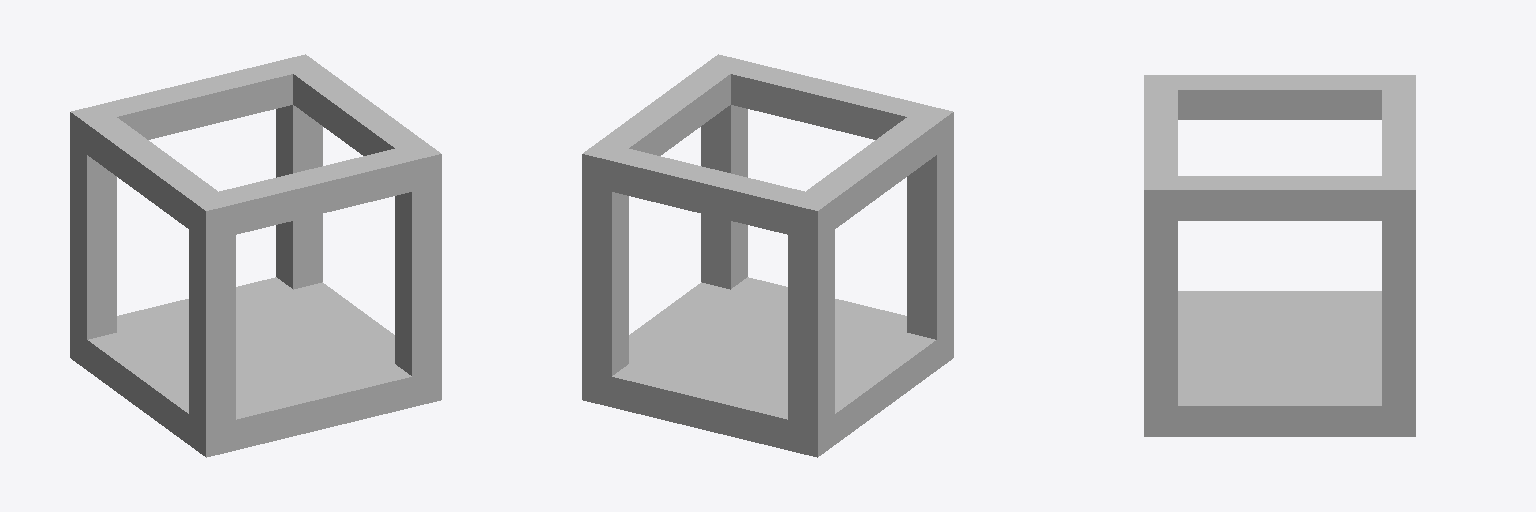
The model's file is blockExtender2.obj.
3 renders of one model, left to right at view 1: azimuth 30°, elevation 25°; view 2: azimuth 150°, elevation 25°; view 3: azimuth 270°, elevation 25°, orthographic.
Parts seen in each view (by area): view 1: Cube.001, Cube_4, Cube_3, Cube_2, Cube_5, Cube_6, Cube_1, Cube_8, Cube_7; view 2: Cube.001, Cube_2, Cube_1, Cube_4, Cube_6, Cube_5, Cube_3, Cube_8, Cube_7; view 3: Cube.001, Cube_7, Cube_8, Cube_3, Cube_1, Cube_6, Cube_5.
Part boxes in pixels (bbox=[...]): Cube.001: bbox=[70, 277, 441, 457]; Cube_4: bbox=[189, 192, 235, 426]; Cube_3: bbox=[395, 141, 441, 376]; Cube_2: bbox=[70, 105, 116, 339]; Cube_5: bbox=[219, 149, 411, 234]; Cube_6: bbox=[100, 62, 292, 139]; Cube_1: bbox=[276, 54, 322, 289]; Cube_8: bbox=[87, 117, 217, 228]; Cube_7: bbox=[293, 67, 423, 155]; Cube.001: bbox=[582, 277, 953, 457]; Cube_2: bbox=[788, 192, 834, 426]; Cube_1: bbox=[582, 141, 628, 376]; Cube_4: bbox=[907, 105, 953, 339]; Cube_6: bbox=[612, 149, 804, 234]; Cube_5: bbox=[731, 62, 923, 139]; Cube_3: bbox=[701, 54, 747, 289]; Cube_8: bbox=[806, 117, 936, 228]; Cube_7: bbox=[600, 67, 730, 155]; Cube.001: bbox=[1144, 291, 1415, 436]; Cube_7: bbox=[1178, 176, 1381, 220]; Cube_8: bbox=[1178, 75, 1381, 119]; Cube_3: bbox=[1144, 176, 1177, 405]; Cube_1: bbox=[1382, 176, 1415, 405]; Cube_6: bbox=[1382, 90, 1415, 175]; Cube_5: bbox=[1144, 90, 1177, 175].
Size of the model in its own units: 2 by 2 by 2.